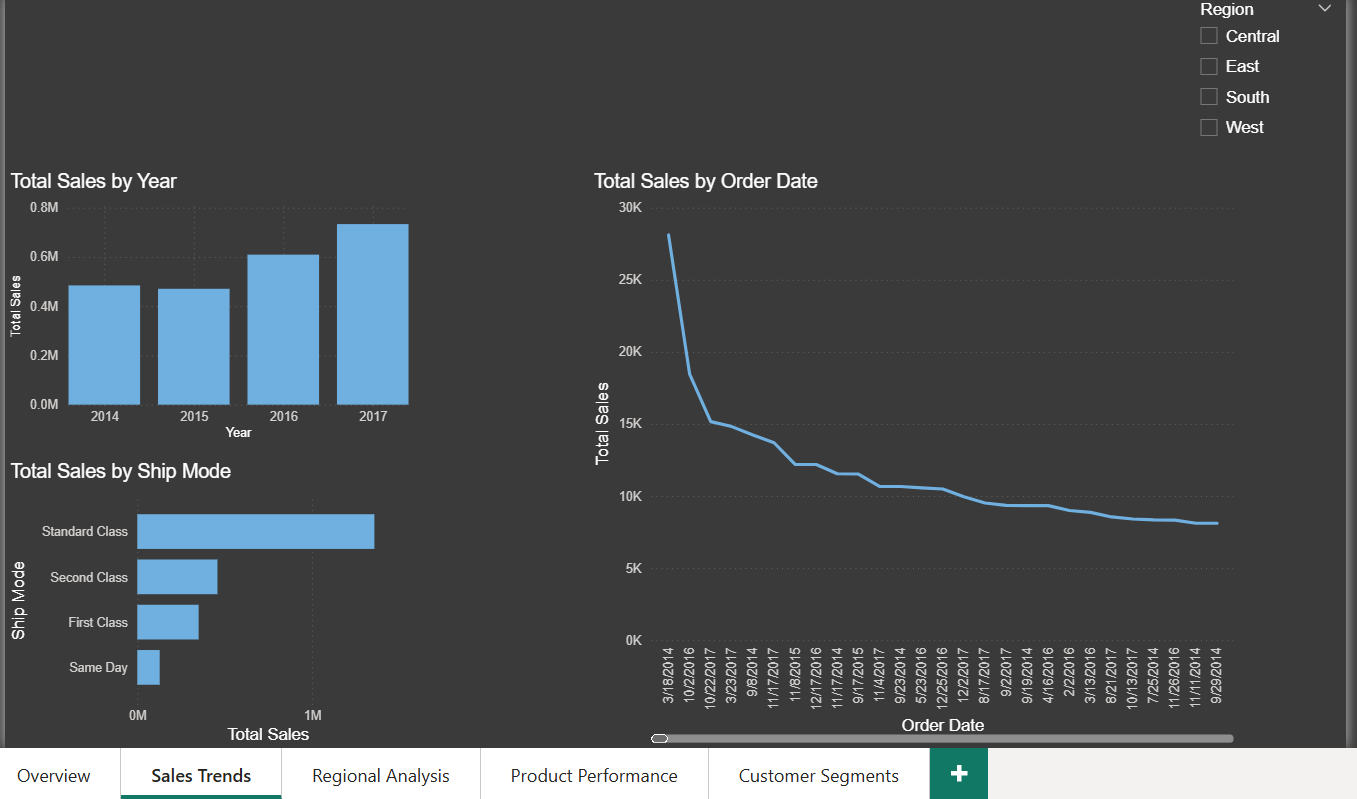

What the dashboard file says about the page in this screenshot:
{"tool":"powerbi","page":{"name":"Sales Trends","canvas":[1280,720],"ordinal":1},"visuals":[{"type":"lineChart","fields":{"Category":["Sample - Superstore.Order Date"],"Y":["Sample - Superstore.Total Sales"]},"box":[557.4,169.1,621,550.7],"z":0},{"type":"clusteredBarChart","fields":{"Category":["Sample - Superstore.Ship Mode"],"Y":["Sample - Superstore.Total Sales"]},"box":[0,445.3,390,274.5],"z":1},{"type":"clusteredColumnChart","fields":{"Y":["Sample - Superstore.Total Sales"],"Category":["Sample - Superstore.Year"]},"box":[0,169.1,390,261.1],"z":2},{"type":"slicer","fields":{"Values":["Sample - Superstore.Region"]},"box":[1129.3,0,150.7,197.5],"z":4}]}

Visuals, with their boxes on the page's 1280x720 design canvas (x1, y1, x2, y2). These are canvas units, not pixel positions in the 1357x799 screenshot, which may show the page scaled, cropped or inside an application window:
lineChart - Sample - Superstore.Order Date x Sample - Superstore.Total Sales: select_region(557, 169, 1178, 720)
clusteredBarChart - Sample - Superstore.Ship Mode x Sample - Superstore.Total Sales: select_region(0, 445, 390, 720)
clusteredColumnChart - Sample - Superstore.Total Sales x Sample - Superstore.Year: select_region(0, 169, 390, 430)
slicer - Sample - Superstore.Region: select_region(1129, 0, 1280, 198)
